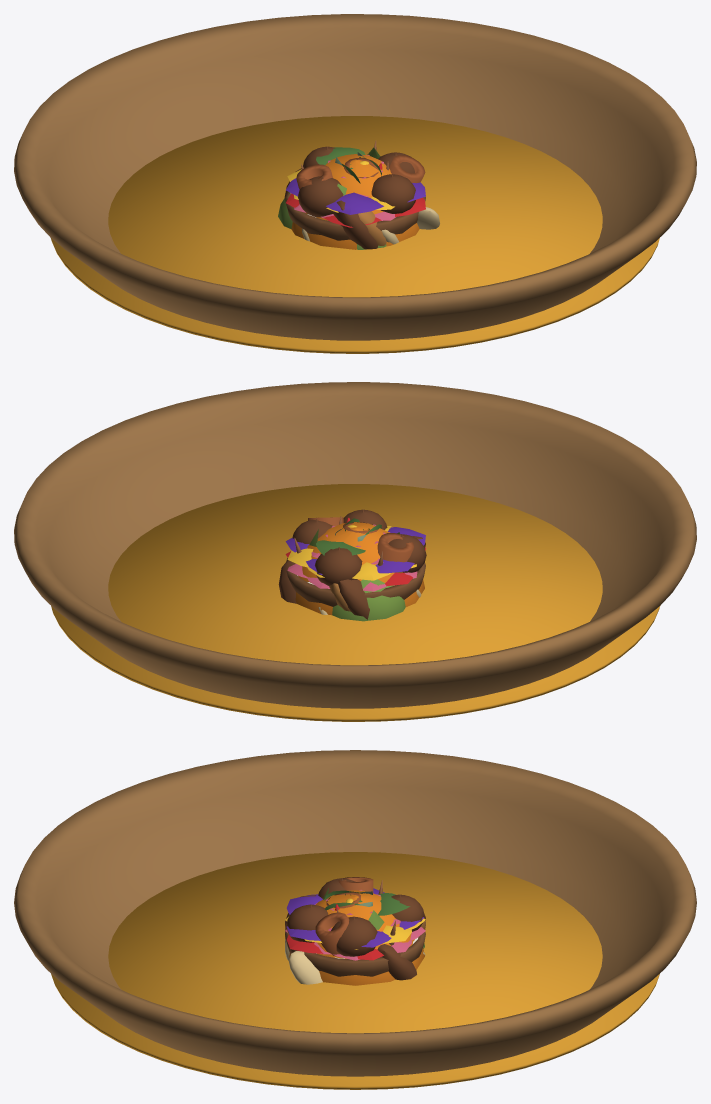
File: botanicals.glb
The picture shows the model from 3 angles, top to bottom: view 1: azimuth 30°, elevation 25°; view 2: azimuth 150°, elevation 25°; view 3: azimuth 270°, elevation 25°; orthographic projection.
Visible parts, largest first — view 1: Vessel geometry, Oil, Ingredient_49 geometry, Ingredient_51 geometry, Ingredient_52 geometry, Ingredient_18 geometry, Ingredient_46 geometry, Ingredient_33 geometry, Ingredient_01 geometry, Ingredient_26 geometry; view 2: Vessel geometry, Oil, Ingredient_49 geometry, Ingredient_51 geometry, Ingredient_52 geometry, Ingredient_33 geometry, Ingredient_16 geometry, Ingredient_18 geometry, Ingredient_46 geometry, Ingredient_06 geometry, Ingredient_08 geometry; view 3: Vessel geometry, Oil, Ingredient_49 geometry, Ingredient_51 geometry, Ingredient_52 geometry, Ingredient_18 geometry, Ingredient_46 geometry, Ingredient_01 geometry, Ingredient_33 geometry, Ingredient_26 geometry, Ingredient_08 geometry.
Part boxes in pixels (left/top/right/bottom): Vessel geometry: left=14, top=14, right=696, bottom=340; Oil: left=51, top=116, right=659, bottom=353; Ingredient_49 geometry: left=298, top=146, right=415, bottom=217; Ingredient_51 geometry: left=291, top=147, right=419, bottom=249; Ingredient_52 geometry: left=285, top=191, right=425, bottom=240; Ingredient_18 geometry: left=296, top=155, right=425, bottom=189; Ingredient_46 geometry: left=286, top=178, right=425, bottom=214; Ingredient_33 geometry: left=284, top=168, right=377, bottom=249; Ingredient_01 geometry: left=302, top=207, right=439, bottom=244; Ingredient_26 geometry: left=286, top=161, right=425, bottom=227; Vessel geometry: left=14, top=382, right=696, bottom=708; Oil: left=51, top=484, right=659, bottom=721; Ingredient_49 geometry: left=292, top=509, right=426, bottom=585; Ingredient_51 geometry: left=295, top=522, right=424, bottom=615; Ingredient_52 geometry: left=286, top=558, right=425, bottom=606; Ingredient_33 geometry: left=278, top=536, right=425, bottom=619; Ingredient_16 geometry: left=332, top=579, right=405, bottom=621; Ingredient_18 geometry: left=308, top=517, right=413, bottom=573; Ingredient_46 geometry: left=285, top=527, right=425, bottom=574; Ingredient_06 geometry: left=287, top=526, right=416, bottom=580; Ingredient_08 geometry: left=287, top=524, right=417, bottom=591; Vessel geometry: left=14, top=750, right=696, bottom=1076; Oil: left=51, top=852, right=659, bottom=1089; Ingredient_49 geometry: left=286, top=878, right=424, bottom=956; Ingredient_51 geometry: left=289, top=890, right=424, bottom=985; Ingredient_52 geometry: left=285, top=928, right=425, bottom=976; Ingredient_18 geometry: left=315, top=877, right=373, bottom=956; Ingredient_46 geometry: left=286, top=888, right=423, bottom=947; Ingredient_01 geometry: left=285, top=939, right=425, bottom=984; Ingredient_33 geometry: left=285, top=895, right=425, bottom=980; Ingredient_26 geometry: left=286, top=898, right=383, bottom=960; Ingredient_08 geometry: left=285, top=890, right=425, bottom=960.
Size of the model in its own units: 3 by 0.64 by 3.
